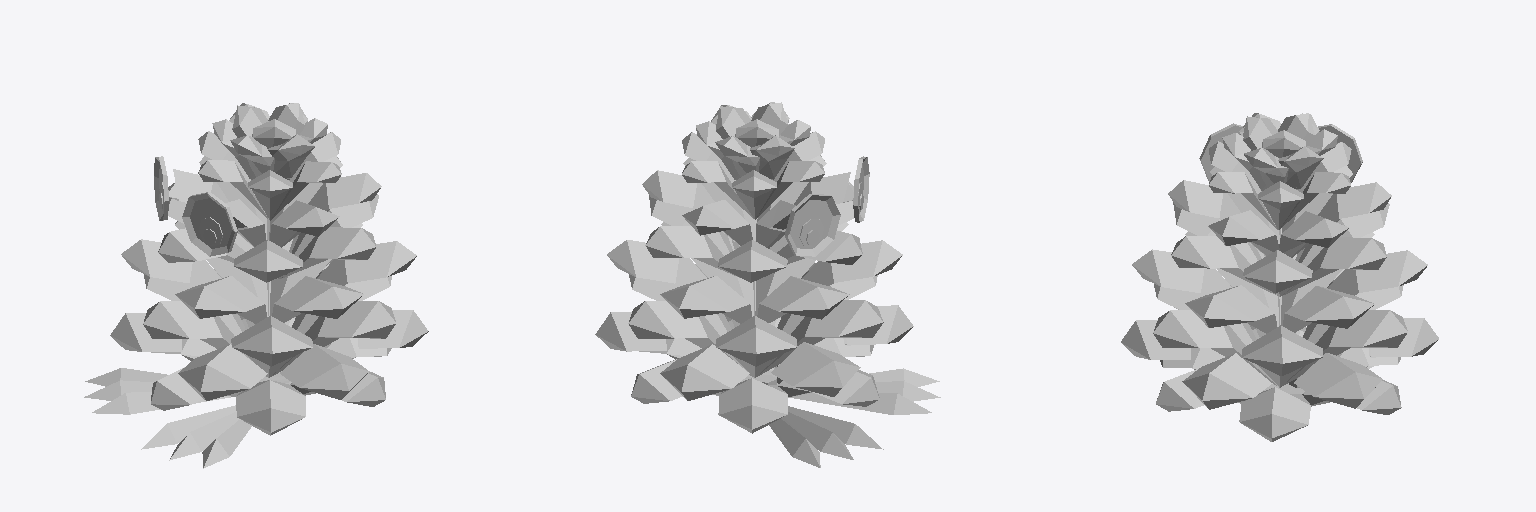
File: pineconeChargingLunge3.obj
3 renders of one model, left to right at view 1: azimuth 30°, elevation 25°; view 2: azimuth 150°, elevation 25°; view 3: azimuth 270°, elevation 25°, orthographic.
Visible parts, largest first — view 1: Cube.001_Cube.004; view 2: Cube.001_Cube.004; view 3: Cube.001_Cube.004.
Part boxes in pixels (left/top/right/bottom): Cube.001_Cube.004: left=84, top=103, right=428, bottom=468; Cube.001_Cube.004: left=595, top=102, right=940, bottom=467; Cube.001_Cube.004: left=1121, top=113, right=1438, bottom=441.
Bounding box in the file's own units: 28 × 27.09 × 27.55.